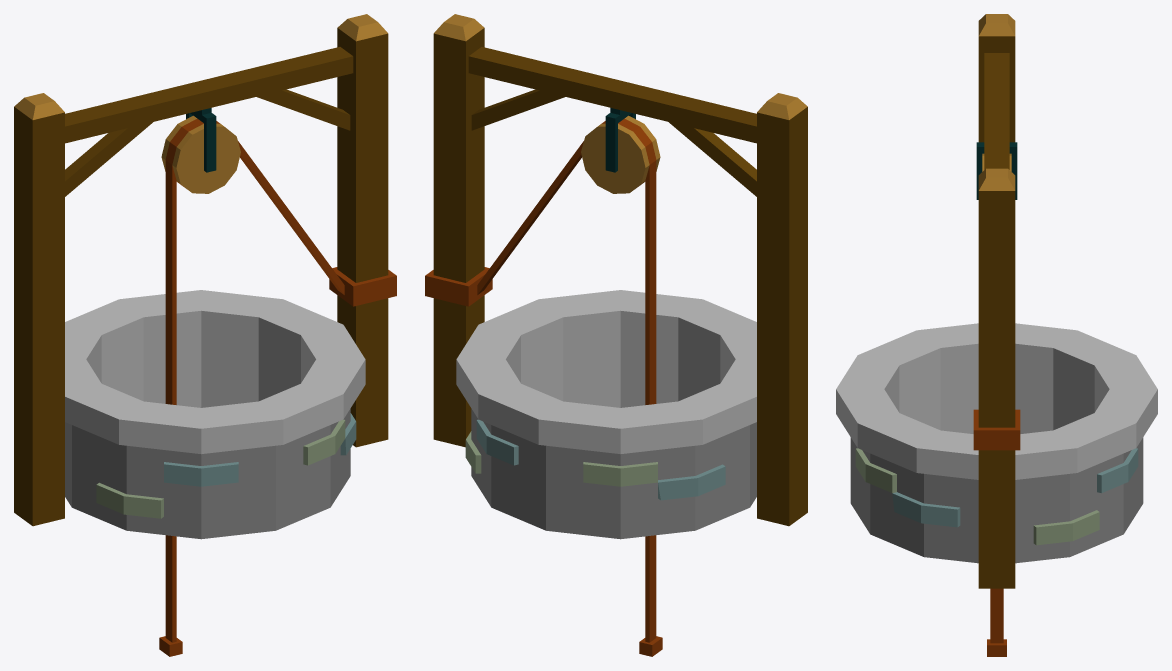
Rendered from Well.fbx.
The picture shows the model from 3 angles, left to right: view 1: azimuth 30°, elevation 25°; view 2: azimuth 150°, elevation 25°; view 3: azimuth 270°, elevation 25°; orthographic projection. The views are drawn at different scales.
Parts seen in each view (by area): view 1: Well_01; view 2: Well_01; view 3: Well_01.
Part boxes in pixels (x1,y1,x2,y2): Well_01: (14, 14, 396, 656); Well_01: (425, 14, 807, 656); Well_01: (836, 14, 1157, 656).
Size of the model in its own units: 44.72 by 69.08 by 35.2.
1 material, 1 textured.
